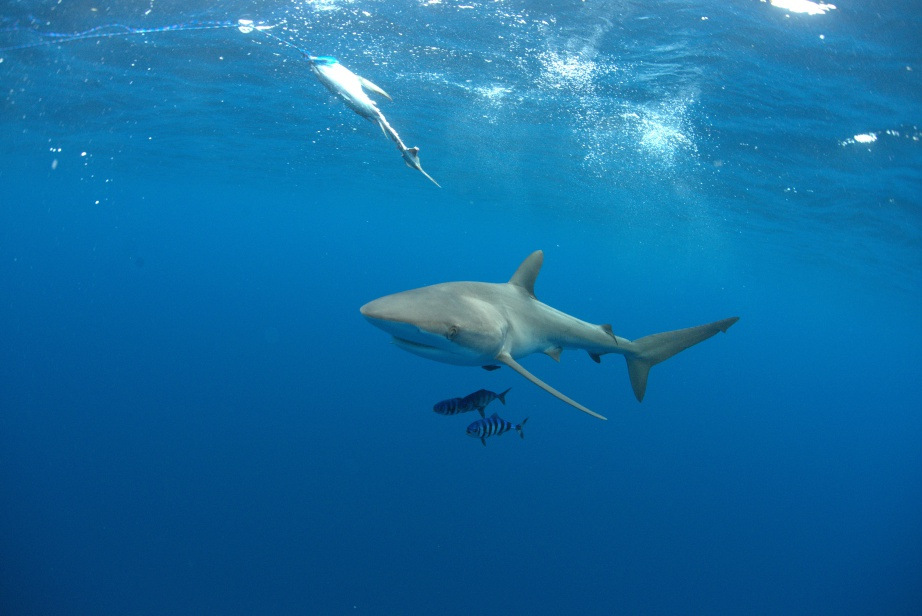Sedoso: (331, 229, 743, 422)
